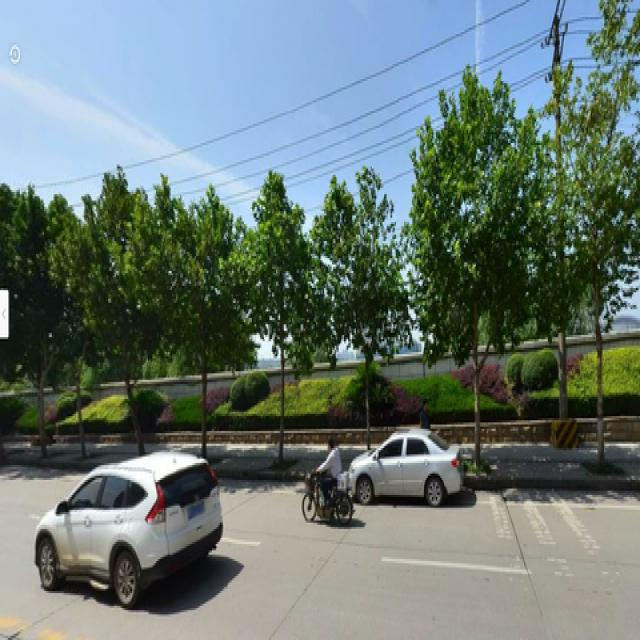meta: (551, 81, 632, 467), (431, 104, 513, 446), (321, 175, 404, 456), (91, 190, 165, 431), (250, 196, 310, 454), (172, 196, 235, 435)
